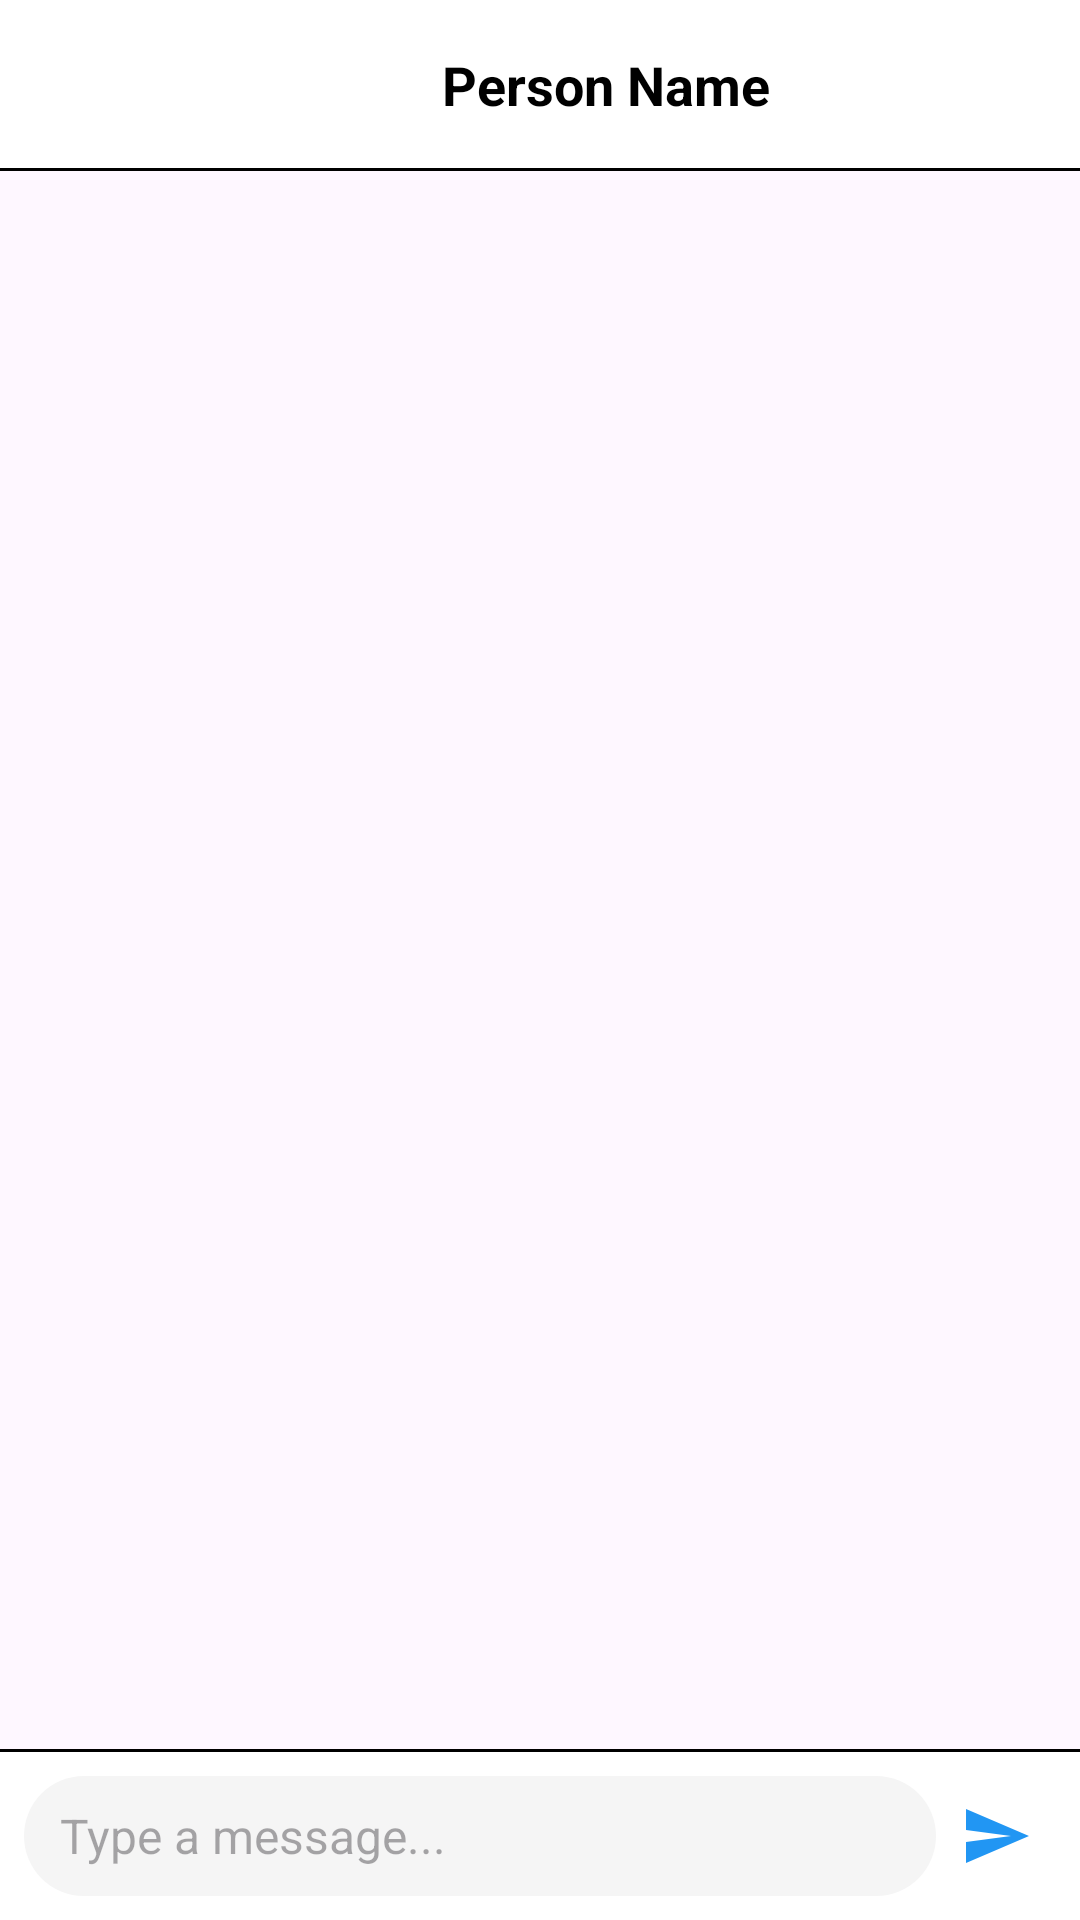

Icons on this 1080w x 1920h Android screen, each with its box as bbox=(x1, y1, x2, y2):
Send: bbox=(966, 1809, 1029, 1863)
